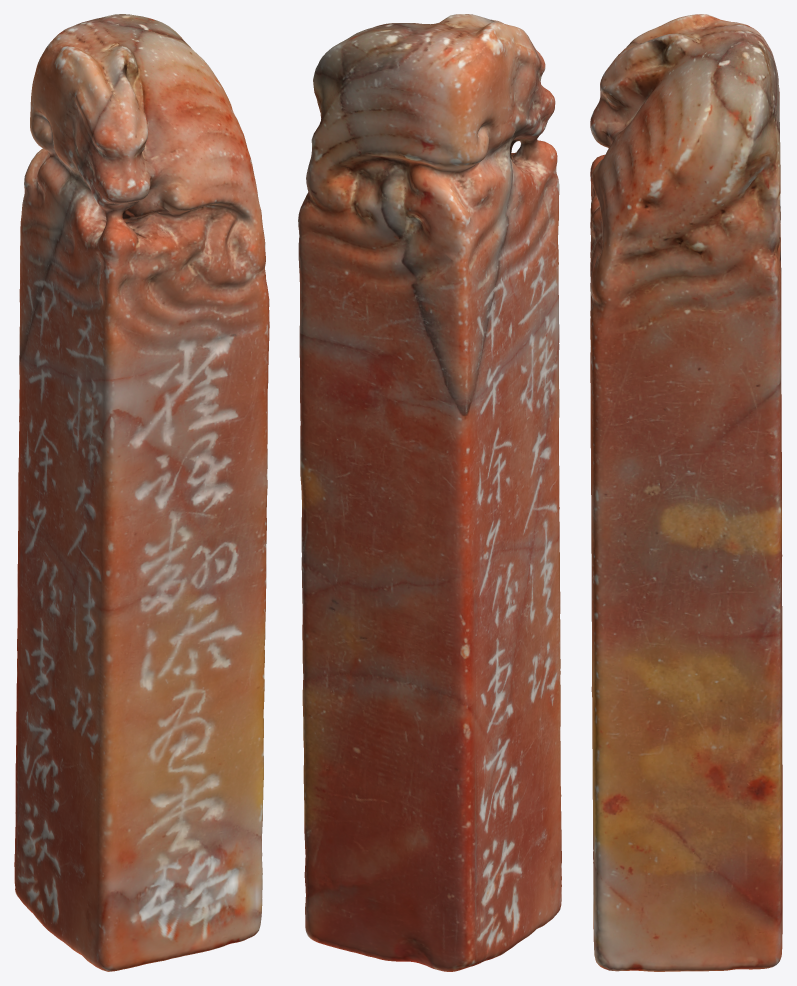
The picture shows the model from 3 angles, left to right: view 1: azimuth 30°, elevation 25°; view 2: azimuth 150°, elevation 25°; view 3: azimuth 270°, elevation 25°; orthographic projection. The views are drawn at different scales.
Visible parts, largest first — view 1: lowpoly.005; view 2: lowpoly.005; view 3: lowpoly.005.
Part boxes in pixels (left/top/right/bottom): lowpoly.005: left=14, top=14, right=269, bottom=971; lowpoly.005: left=298, top=14, right=561, bottom=971; lowpoly.005: left=590, top=14, right=782, bottom=971.
Size of the model in its own units: 2.23 by 11.11 by 2.17.
1 material, 1 textured.
